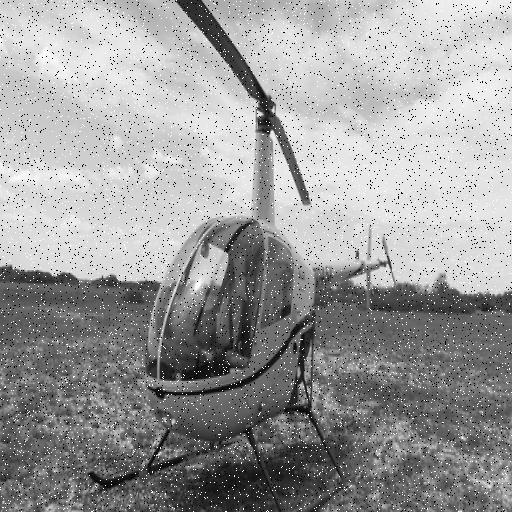helicopter: (101, 1, 399, 512)
